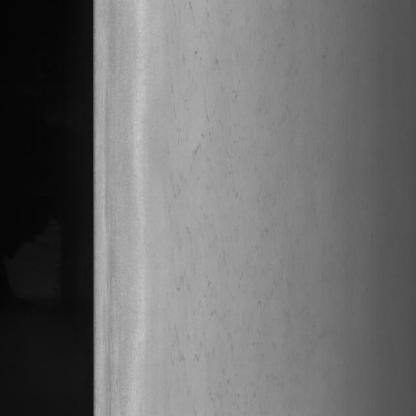silk_spot: (169, 39, 276, 382)
